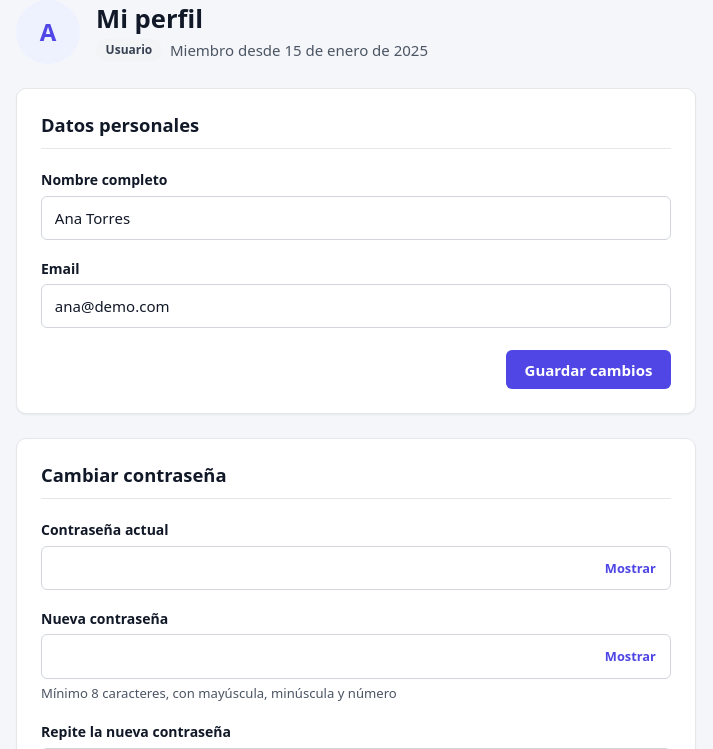
Test case: ProfileView › muestra el error general al fallar el cambio de contraseña
Type "Incorrecta123" into the password field with test id "password-current" at (356, 568), box x1=41 y1=546 x2=671 y2=590
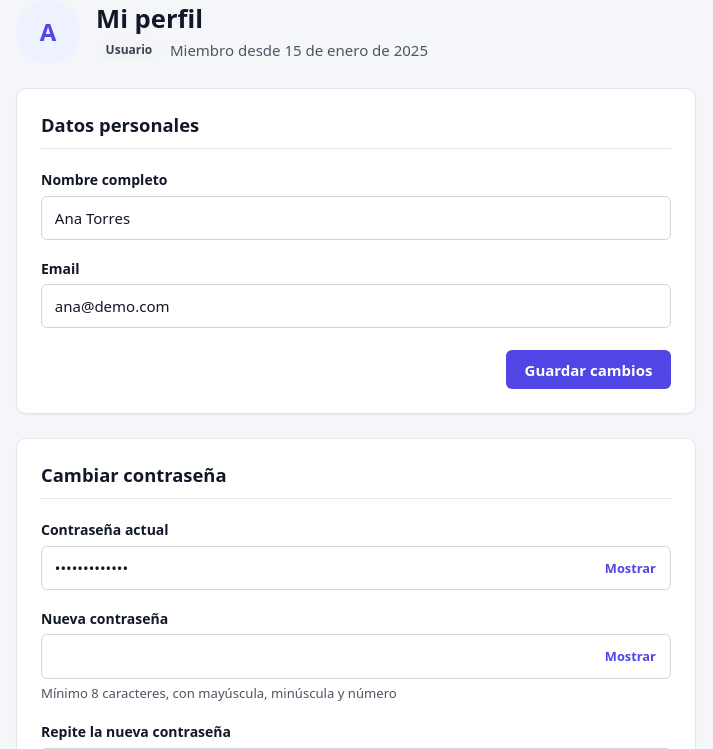
Type "NuevaPassword123" into the password field with test id "password-new" at (356, 656), box x1=41 y1=634 x2=671 y2=679
(page scrolled)
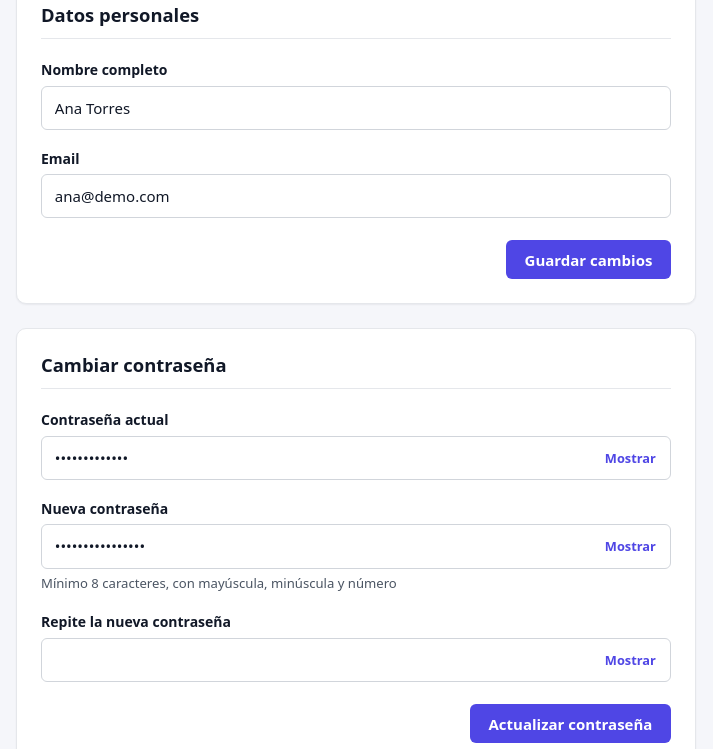
Type "NuevaPassword123" into the password field with test id "password-confirmation" at (356, 660), box x1=41 y1=638 x2=671 y2=682
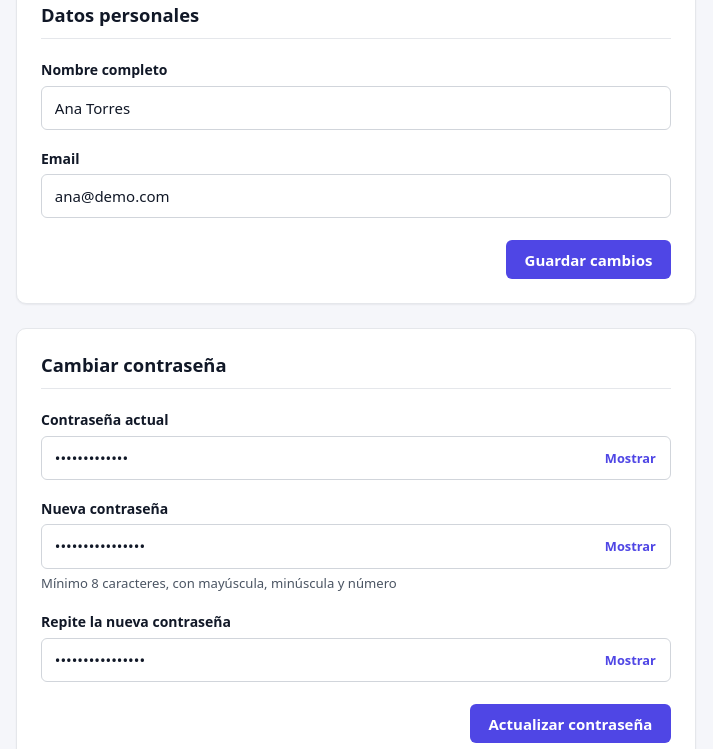
Submit the form with test id "password-form", box x1=41 y1=409 x2=671 y2=743
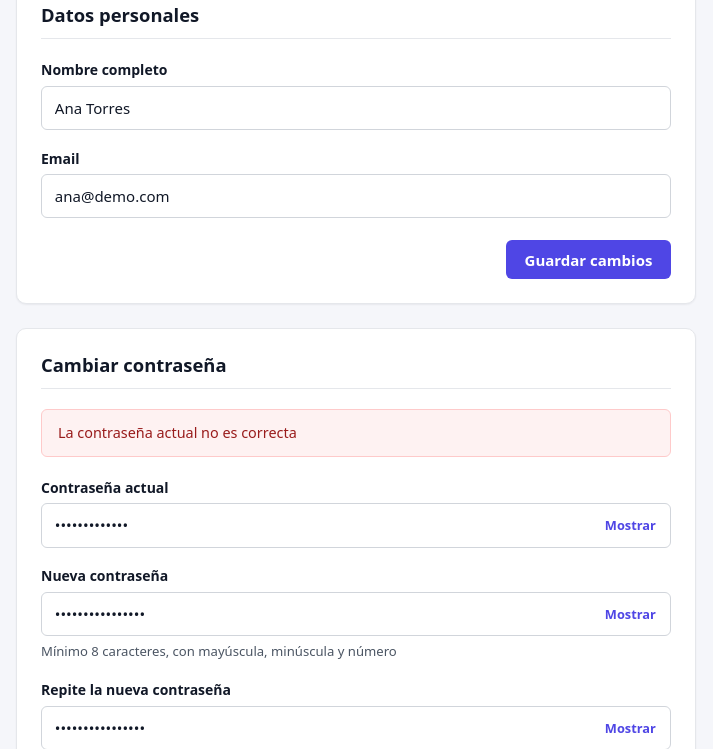
Result: the message with test id "alert" reads "La contraseña actual no es correcta" at x1=58 y1=423 x2=297 y2=442
